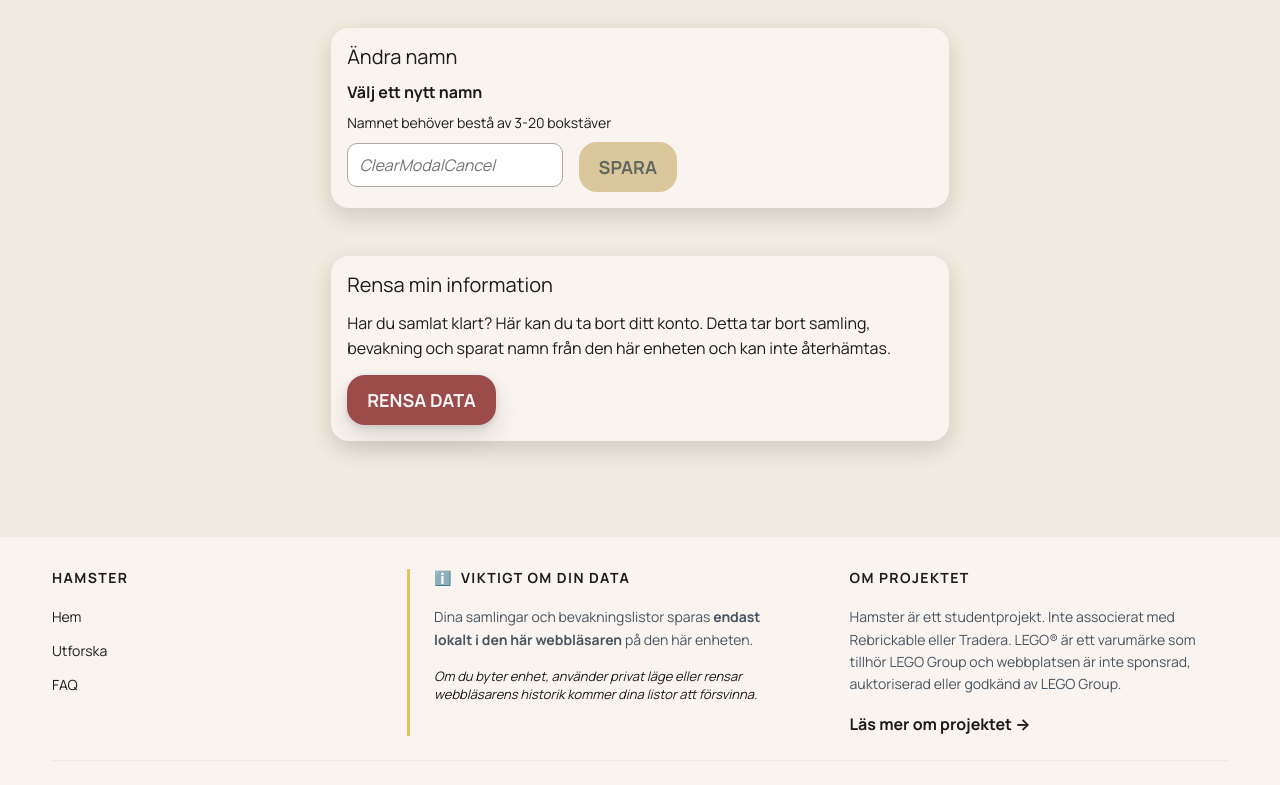
Test case: Visit /mypage › cancel clear data modal
This screenshot has width=1280, height=785.
(page scrolled)
Step 1. Click the button with test id "clear-data" → (422,400), box left=347, top=375, right=496, bottom=425
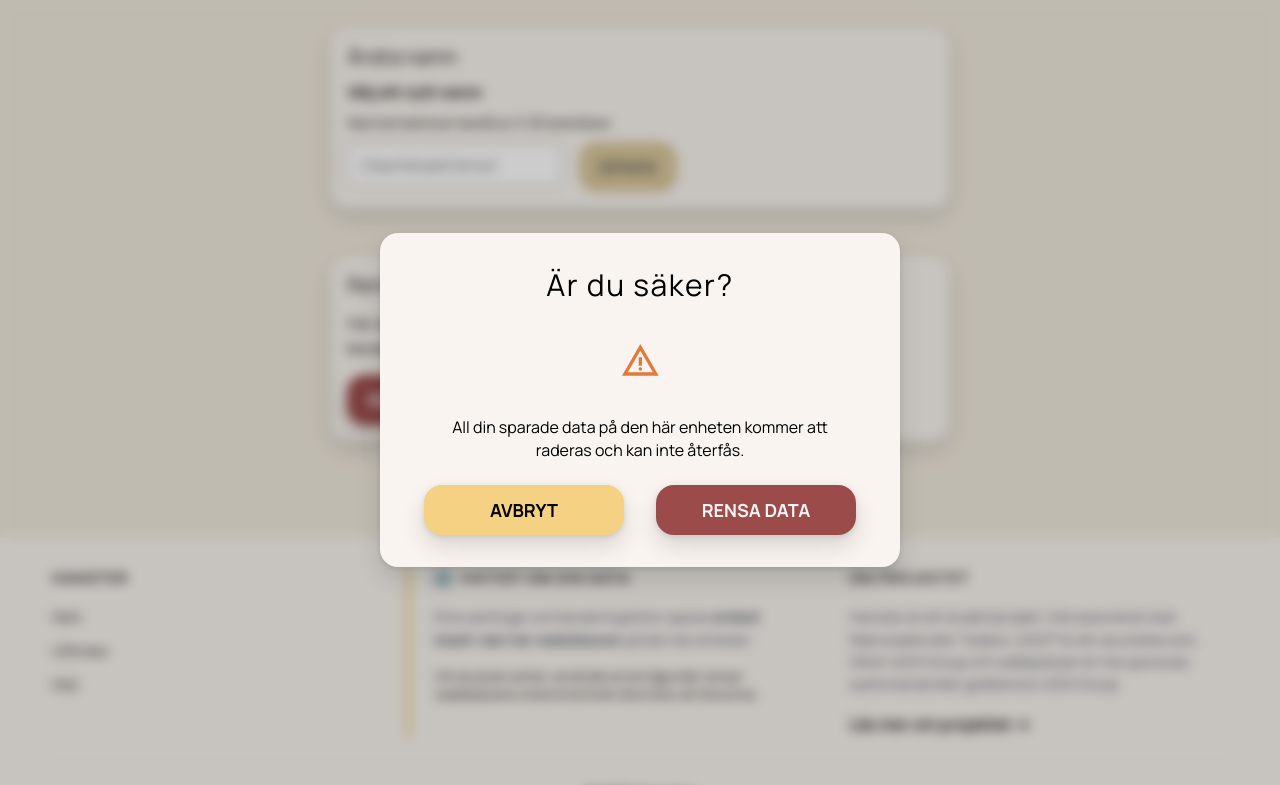
Expected: the dialog with test id "clear-modal" is shown, left=380, top=233, right=900, bottom=567
Step 2. Click the button with test id "clear-modal-cancel" → (524,510), box left=424, top=485, right=624, bottom=535
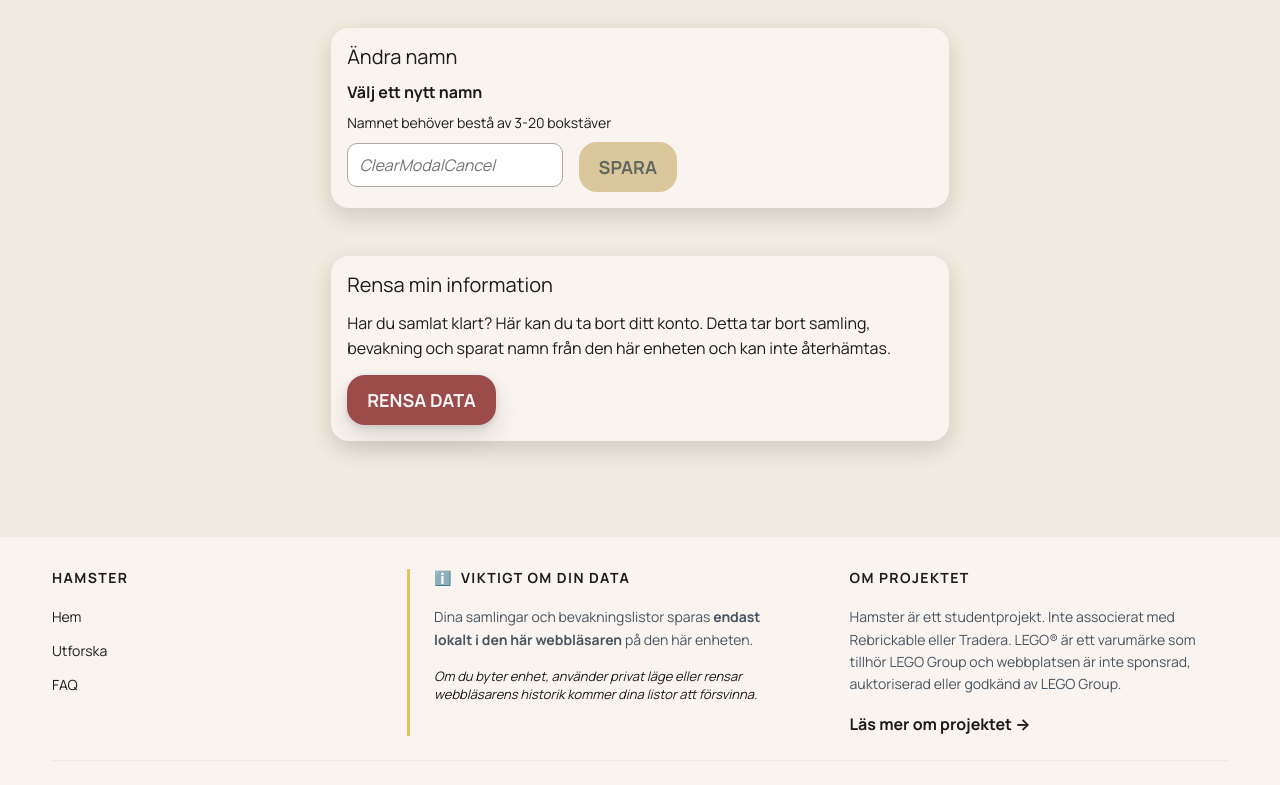
Expected: the dialog with test id "clear-modal" is gone
